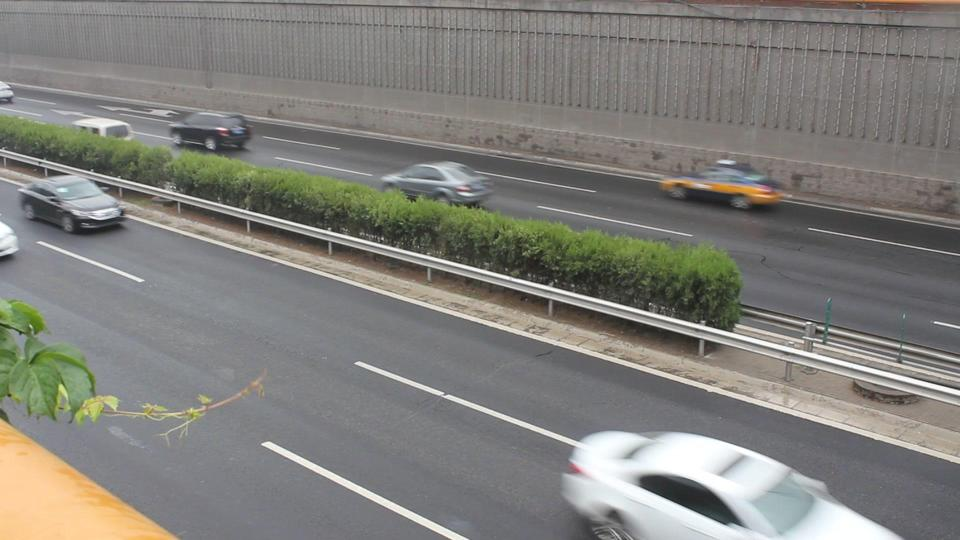Car: (567, 429, 882, 540), (22, 173, 123, 231), (660, 164, 779, 211), (381, 161, 493, 209), (169, 110, 250, 153)
Minivan: (59, 116, 135, 164)
